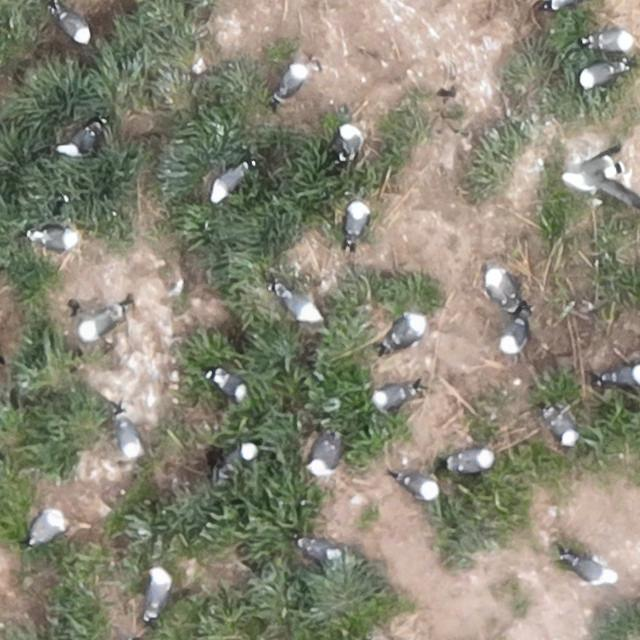F: (569, 144, 628, 202)
umineko: (486, 268, 535, 314), (28, 508, 65, 544), (567, 558, 616, 585), (390, 314, 425, 346), (57, 10, 90, 43), (284, 292, 319, 322), (309, 437, 336, 474), (212, 166, 244, 197), (148, 570, 171, 613), (80, 309, 118, 335), (220, 443, 254, 472), (65, 124, 98, 153), (282, 64, 309, 97), (214, 372, 247, 399), (454, 448, 494, 470), (503, 316, 527, 352), (36, 228, 77, 249), (345, 201, 367, 240), (401, 475, 438, 498), (551, 412, 577, 444), (593, 29, 632, 50), (299, 539, 338, 559), (375, 387, 412, 408), (118, 421, 140, 456), (580, 63, 616, 84), (339, 122, 360, 154), (606, 365, 639, 385), (550, 0, 580, 7)
